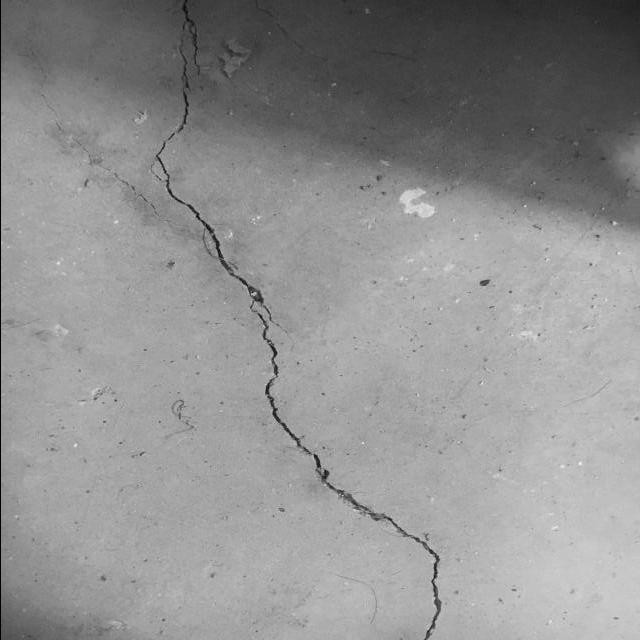SurfaceCrack: (129, 2, 468, 640)
